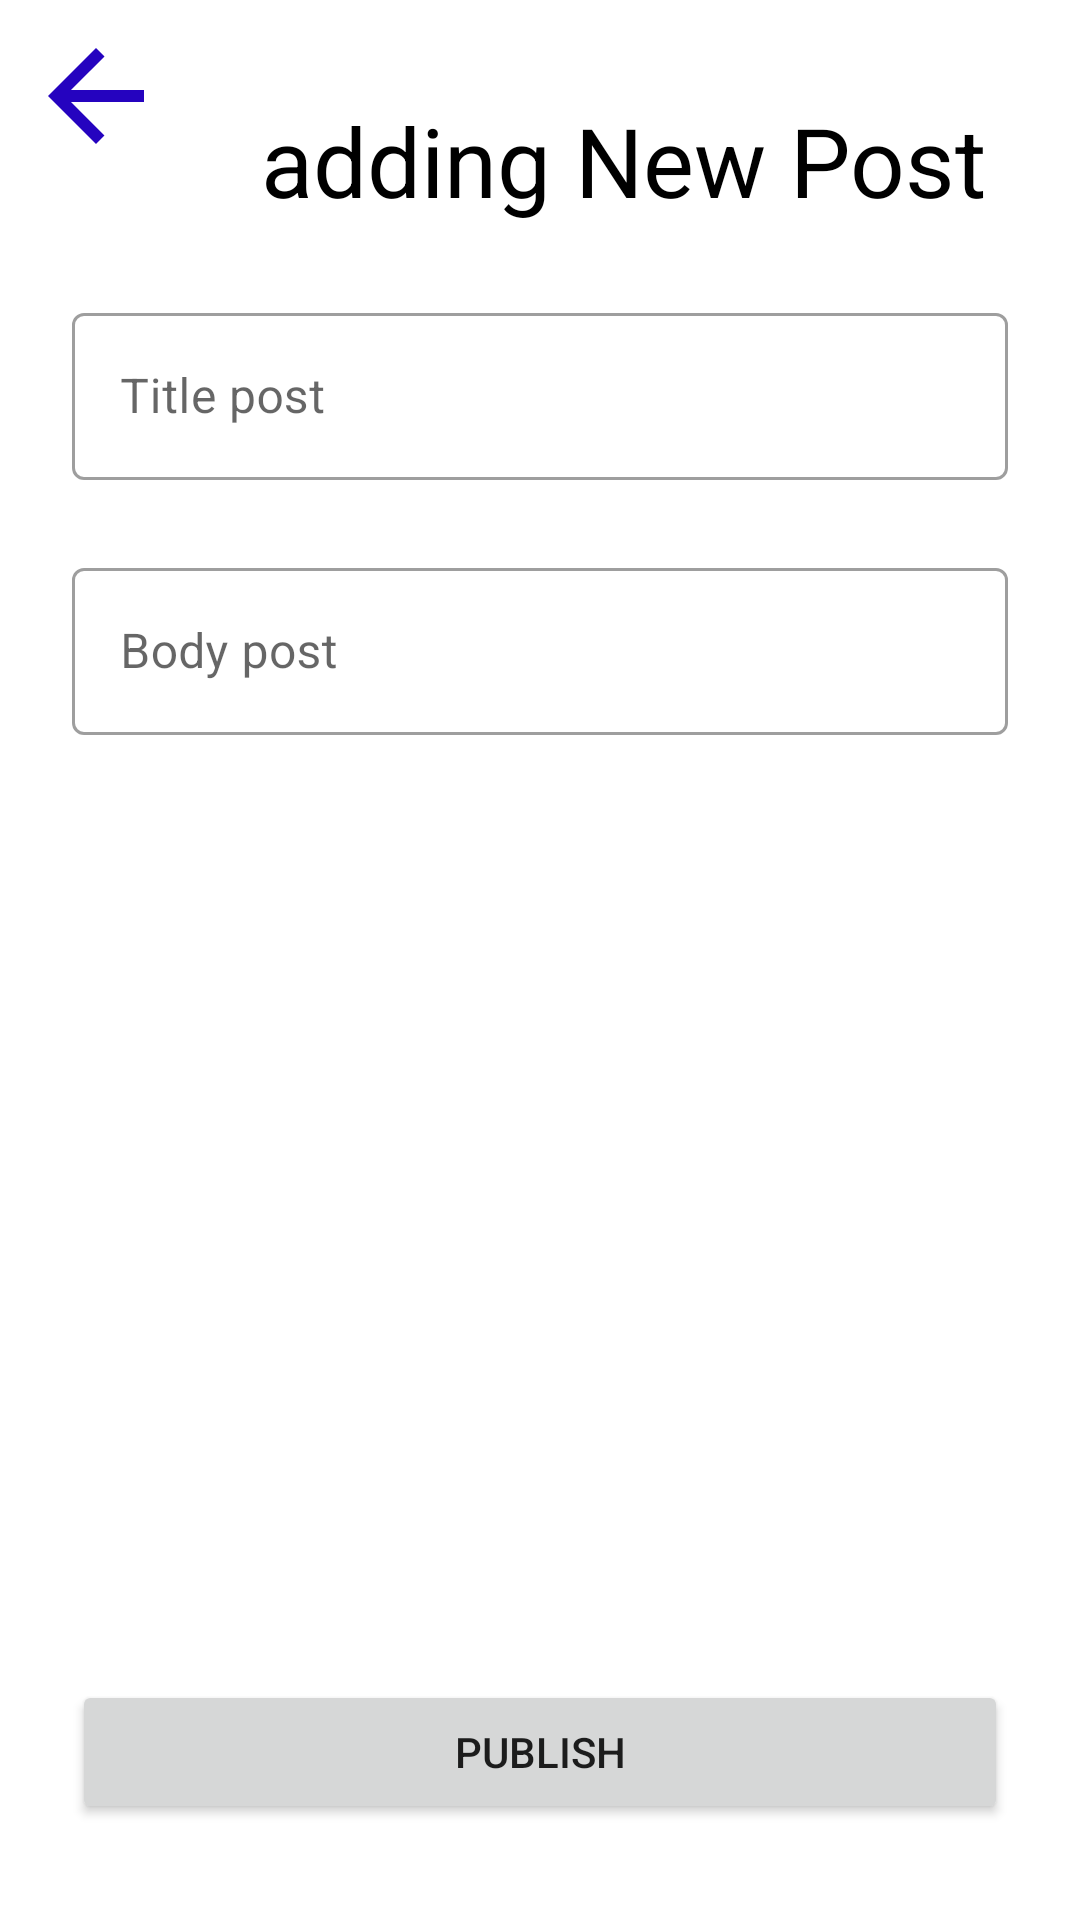

Where icons sit on this 1080px×1920px app screen, as (x1, y1, x2, y2):
back: (48, 48, 144, 144)
